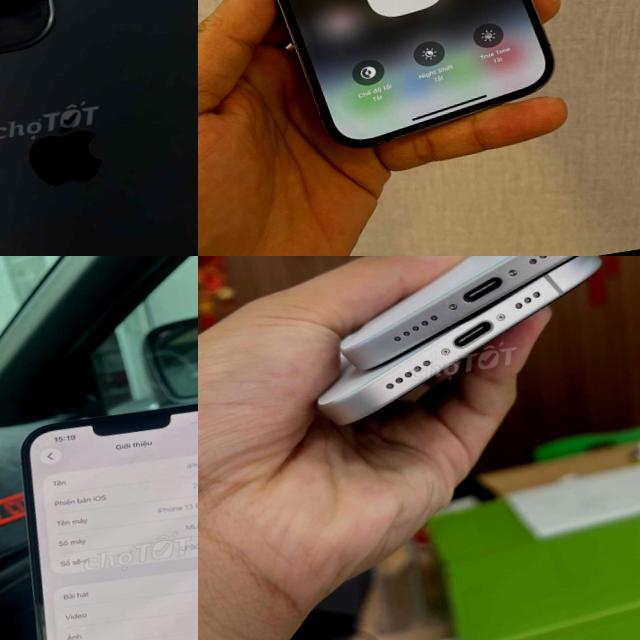gen_12_13: (0, 380, 198, 640)
gen_14: (198, 0, 568, 162), (0, 0, 198, 256)
gen_17: (318, 256, 599, 424)
